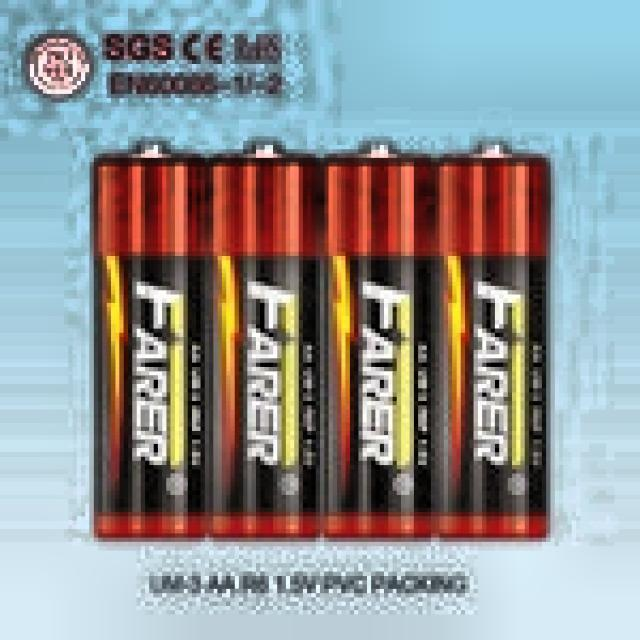battery: (434, 146, 547, 537), (324, 145, 433, 537), (209, 157, 321, 537), (95, 155, 206, 537)
